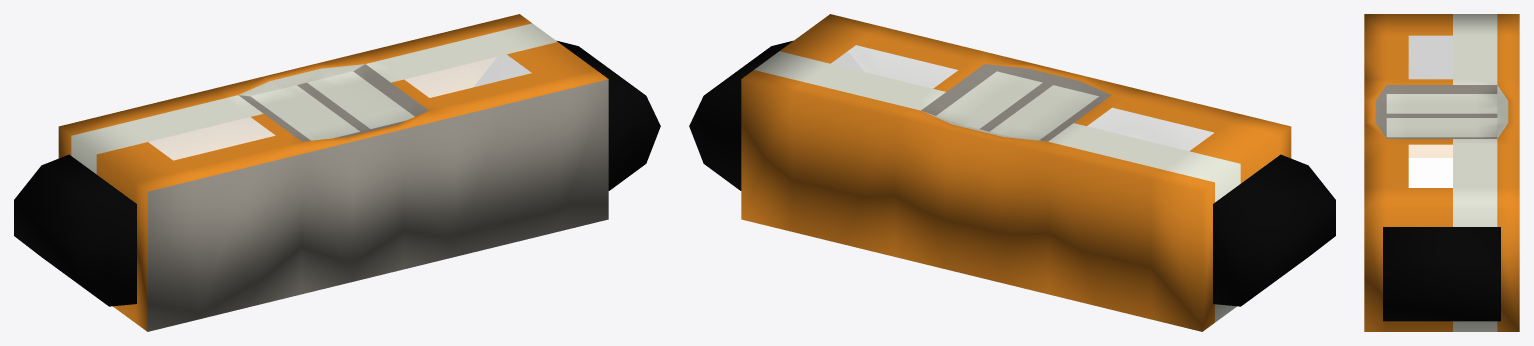
Rendered from asset21.glb.
The picture shows the model from 3 angles, left to right: view 1: azimuth 30°, elevation 25°; view 2: azimuth 150°, elevation 25°; view 3: azimuth 270°, elevation 25°; orthographic projection. The views are drawn at different scales.
Visible parts, largest first — view 1: Cylinder4, Cylinder4_copy22, Cylinder4_sep21; view 2: Cylinder4, Cylinder4_copy22, Cylinder4_sep21; view 3: Cylinder4, Cylinder4_sep21, Cylinder4_copy22.
Boxes of the visible parts, bbox=[...] form: Cylinder4: bbox=[58, 14, 608, 331]; Cylinder4_copy22: bbox=[14, 154, 136, 306]; Cylinder4_sep21: bbox=[474, 40, 660, 190]; Cylinder4: bbox=[741, 14, 1291, 331]; Cylinder4_copy22: bbox=[1213, 154, 1335, 306]; Cylinder4_sep21: bbox=[689, 40, 863, 190]; Cylinder4: bbox=[1364, 14, 1519, 331]; Cylinder4_sep21: bbox=[1383, 227, 1500, 321]; Cylinder4_copy22: bbox=[1409, 36, 1452, 78].
Size of what is drawn, in the model's own units: 1.16 by 0.2692 by 0.3101.
